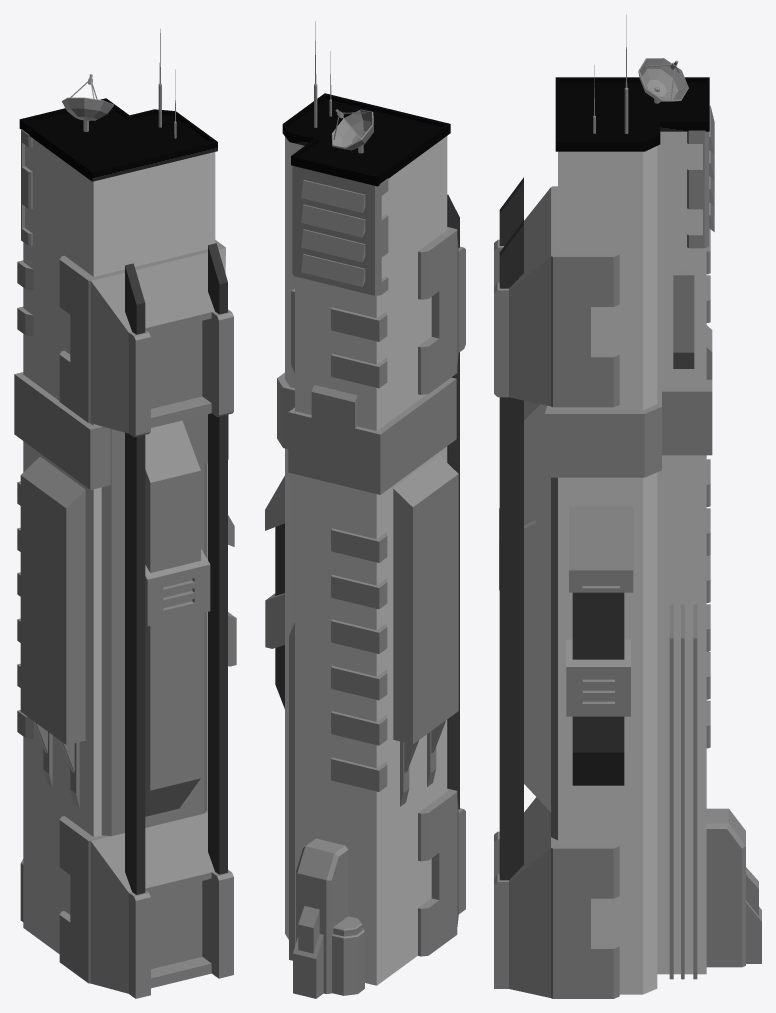
File: building4.fbx
3 renders of one model, left to right at view 1: azimuth 30°, elevation 25°; view 2: azimuth 150°, elevation 25°; view 3: azimuth 270°, elevation 25°, orthographic. The views are drawn at different scales.
Parts seen in each view (by area): view 1: building_4; view 2: building_4; view 3: building_4.
Boxes of the visible parts, x1,y1,x2,y2 form: building_4: (14, 29, 236, 998); building_4: (265, 21, 465, 998); building_4: (494, 15, 761, 998).
Bounding box in the file's own units: 9.49 × 50.19 × 12.54.
